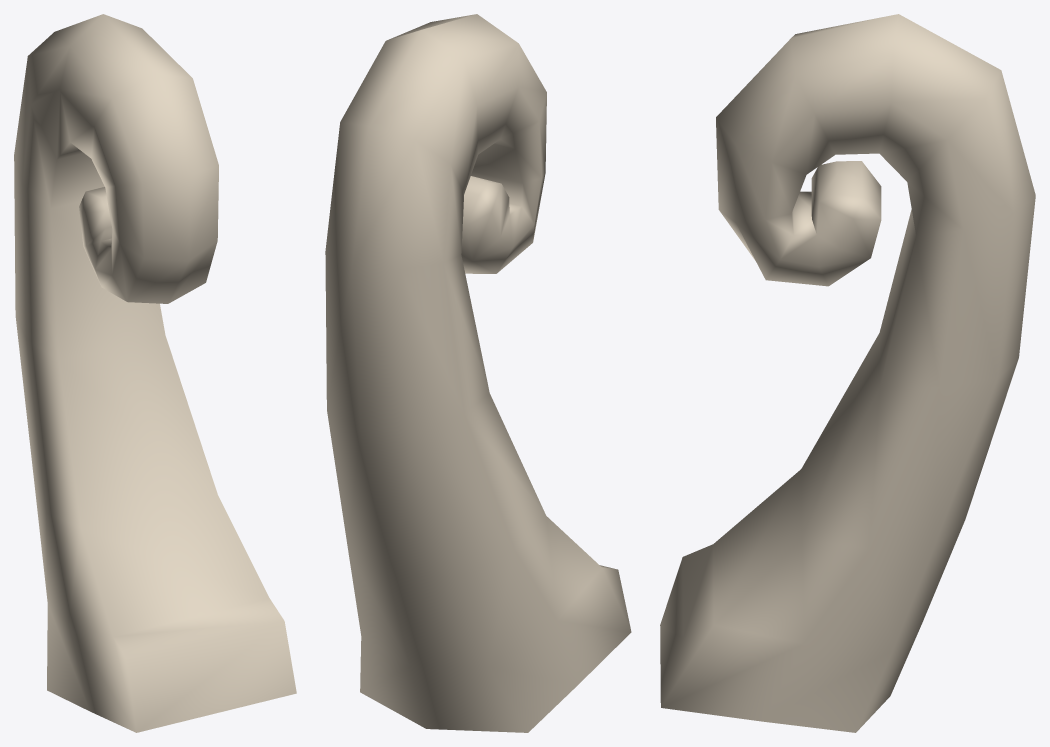
The model's file is figurehead-base.glb.
The picture shows the model from 3 angles, left to right: view 1: azimuth 30°, elevation 25°; view 2: azimuth 150°, elevation 25°; view 3: azimuth 270°, elevation 25°; orthographic projection. The views are drawn at different scales.
Bounding box in the file's own units: 0.1474 × 0.5653 × 0.2821.
